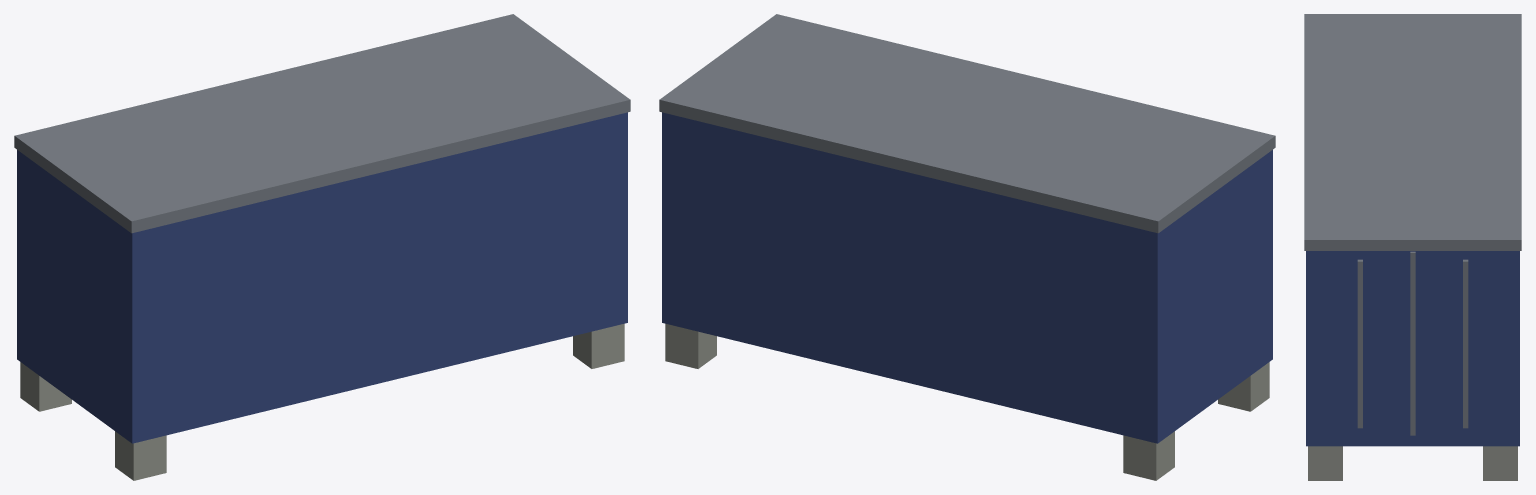
File: site_clutter1.fbx
3 views of the same model, side by side, from view 1: azimuth 30°, elevation 25°; view 2: azimuth 150°, elevation 25°; view 3: azimuth 270°, elevation 25° (orthographic). The views are drawn at different scales.
Visible parts, largest first — view 1: a1089/0/site_clutter1; view 2: a1089/0/site_clutter1; view 3: a1089/0/site_clutter1.
Part boxes in pixels (x1,y1,x2,y2): a1089/0/site_clutter1: (14,14,630,480); a1089/0/site_clutter1: (659,14,1275,480); a1089/0/site_clutter1: (1304,14,1521,480).
Size of the model in its own units: 6.13 by 3.06 by 2.48.
